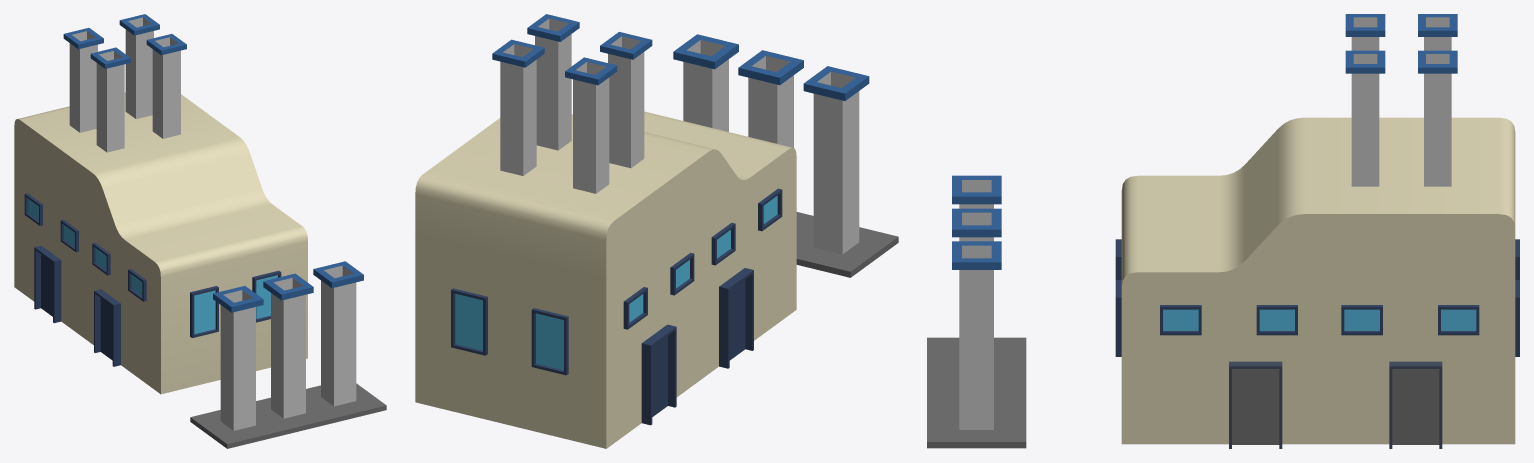
Rendered from Factory.glb.
3 views of the same model, side by side, from view 1: azimuth 30°, elevation 25°; view 2: azimuth 150°, elevation 25°; view 3: azimuth 270°, elevation 25° (orthographic). The views are drawn at different scales.
Parts seen in each view (by area): view 1: Factory_C, Factory_B, Factory_A; view 2: Factory_C, Factory_B, Factory_A; view 3: Factory_C, Factory_B, Factory_A.
Part boxes in pixels (x1,y1,x2,y2): Factory_C: [14, 92, 307, 394]; Factory_B: [190, 261, 386, 448]; Factory_A: [63, 14, 186, 152]; Factory_C: [415, 111, 796, 448]; Factory_B: [673, 34, 898, 277]; Factory_A: [492, 14, 652, 193]; Factory_C: [1115, 117, 1519, 448]; Factory_B: [927, 175, 1026, 448]; Factory_A: [1345, 14, 1457, 186].
Bounding box in the file's own units: 2.23 × 3.45 × 5.27.
